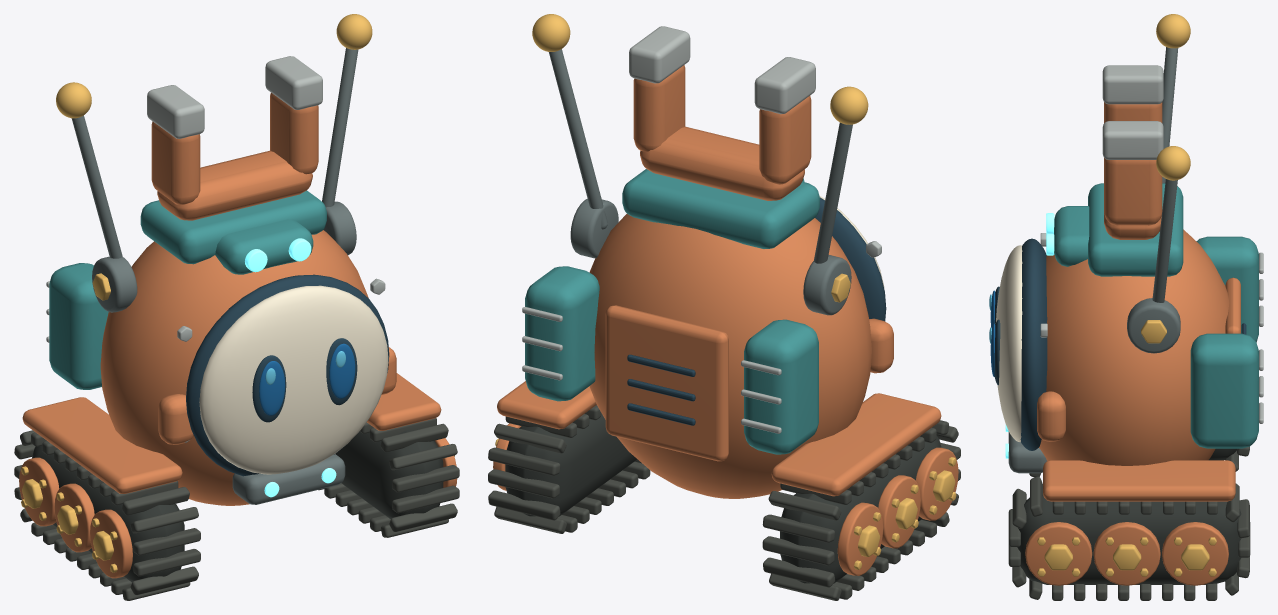
Rendered from robot-scout.glb.
3 views of the same model, side by side, from view 1: azimuth 30°, elevation 25°; view 2: azimuth 150°, elevation 25°; view 3: azimuth 270°, elevation 25° (orthographic). The views are drawn at different scales.
Parts seen in each view (by area): view 1: scout_Scout terracotta enamel, scout_Warm ivory, scout_Teal accents, scout_chassis_Scout terracotta enamel, scout_Gunmetal, scout_chassis_Rubber, scout_Midnight blue, scout_Brushed steel, scout_Brass details, wheel_R_0, wheel_R_2, wheel_R_1 (+12 smaller); view 2: scout_Scout terracotta enamel, scout_Teal accents, scout_chassis_Scout terracotta enamel, scout_chassis_Rubber, scout_Gunmetal, scout_Brushed steel, scout_Midnight blue, scout_Brass details, wheel_R_2, wheel_R_0, wheel_R_1, tread_L_23 (+9 smaller); view 3: scout_Scout terracotta enamel, scout_Teal accents, scout_chassis_Scout terracotta enamel, scout_chassis_Rubber, scout_Gunmetal, scout_Brushed steel, scout_Midnight blue, scout_Warm ivory, wheel_L_0, wheel_L_1, wheel_L_2, scout_Brass details (+4 smaller).
Part boxes in pixels (<box>): scout_Scout terracotta enamel: <box>100,93,396,505</box>; scout_Warm ivory: <box>199,285,388,474</box>; scout_Teal accents: <box>49,190,326,389</box>; scout_chassis_Scout terracotta enamel: <box>22,373,441,493</box>; scout_Gunmetal: <box>71,48,358,504</box>; scout_chassis_Rubber: <box>32,430,443,582</box>; scout_Midnight blue: <box>186,274,389,476</box>; scout_Brushed steel: <box>46,56,385,442</box>; scout_Brass details: <box>56,14,372,300</box>; wheel_R_0: <box>90,509,132,578</box>; wheel_R_2: <box>19,457,59,526</box>; wheel_R_1: <box>54,483,94,552</box>; scout_Scout terracotta enamel: <box>589,65,893,498</box>; scout_Teal accents: <box>525,169,819,454</box>; scout_chassis_Scout terracotta enamel: <box>497,381,941,496</box>; scout_chassis_Rubber: <box>505,413,941,583</box>; scout_Gunmetal: <box>549,49,852,315</box>; scout_Brushed steel: <box>522,26,881,433</box>; scout_Midnight blue: <box>627,197,886,425</box>; scout_Brass details: <box>532,14,868,302</box>; wheel_R_2: <box>837,502,883,575</box>; wheel_R_0: <box>916,447,958,520</box>; wheel_R_1: <box>878,475,920,548</box>; tread_L_23: <box>488,490,560,520</box>; scout_Scout terracotta enamel: <box>1037,102,1240,465</box>; scout_Teal accents: <box>1054,183,1258,448</box>; scout_chassis_Scout terracotta enamel: <box>1043,460,1235,501</box>; scout_chassis_Rubber: <box>1017,448,1241,584</box>; scout_Gunmetal: <box>1008,47,1180,473</box>; scout_Brushed steel: <box>1040,65,1263,423</box>; scout_Midnight blue: <box>994,238,1246,450</box>; scout_Warm ivory: <box>995,245,1022,442</box>; wheel_L_0: <box>1025,522,1092,585</box>; wheel_L_1: <box>1093,522,1160,585</box>; wheel_L_2: <box>1162,522,1228,585</box>; scout_Brass details: <box>1141,14,1190,343</box>.
Size of the model in its own units: 1.59 by 2.01 by 1.12.
